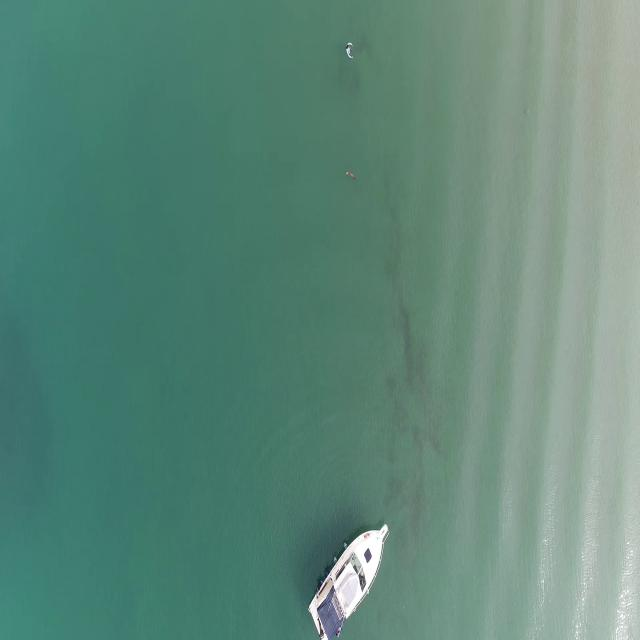boat: (310, 523, 388, 636)
person: (346, 41, 356, 63)
wood: (345, 168, 357, 182)
